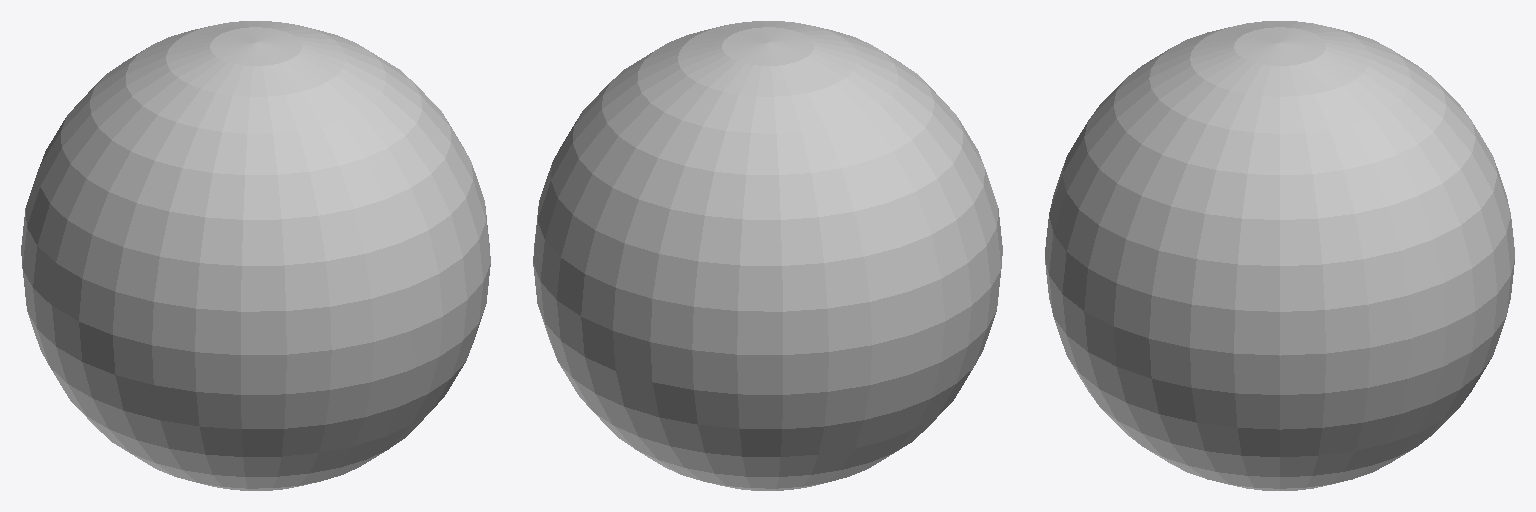
File: sun.obj
3 views of the same model, side by side, from view 1: azimuth 30°, elevation 25°; view 2: azimuth 150°, elevation 25°; view 3: azimuth 270°, elevation 25° (orthographic).
Parts seen in each view (by area): view 1: Sphere; view 2: Sphere; view 3: Sphere.
Part boxes in pixels (x1,y1,x2,y2): Sphere: (21,21,490,490); Sphere: (533,21,1002,490); Sphere: (1045,21,1514,490).
Bounding box in the file's own units: 0.5 × 0.5 × 0.5.